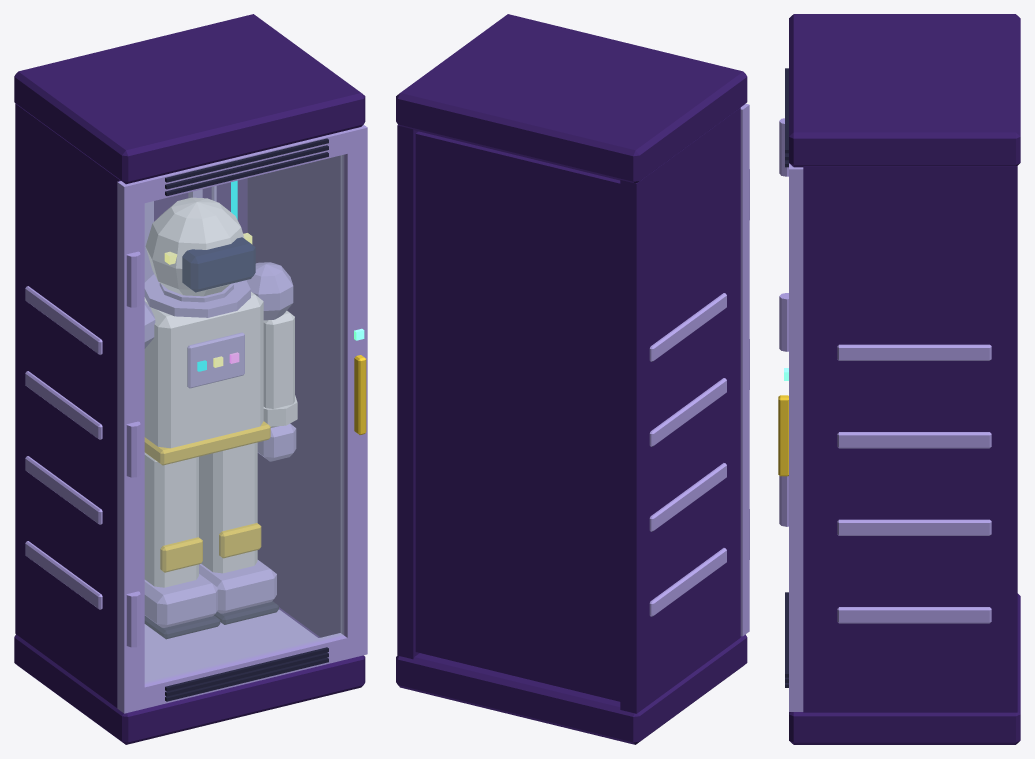
File: taquilla_traje_original.glb
3 views of the same model, side by side, from view 1: azimuth 30°, elevation 25°; view 2: azimuth 150°, elevation 25°; view 3: azimuth 270°, elevation 25° (orthographic). The views are drawn at different scales.
Visible parts, largest first — view 1: Casillero, Cristal, Traje (×4), Puerta, Suelo, Rejilla, Nervio, Visera, Bisagra, Tirador; view 2: Casillero, Nervio, Puerta; view 3: Casillero, Nervio, Puerta, Bisagra, Tirador, Rejilla.
Part boxes in pixels (x1,y1,x2,y2): Casillero: (14, 14, 365, 744); Cristal: (145, 155, 343, 683); Traje (×4): (144, 186, 297, 639); Puerta: (117, 124, 367, 713); Suelo: (144, 609, 317, 680); Rejilla: (165, 138, 328, 701); Nervio: (25, 286, 102, 609); Visera: (182, 237, 255, 292); Bisagra: (126, 251, 140, 647); Tirador: (354, 355, 366, 434); Casillero: (396, 14, 747, 744); Nervio: (649, 293, 726, 616); Puerta: (740, 103, 749, 636); Casillero: (789, 14, 1020, 744); Nervio: (837, 344, 991, 623); Puerta: (789, 163, 803, 711); Bisagra: (779, 118, 788, 526); Tirador: (778, 395, 788, 476); Rejilla: (785, 68, 788, 687).
Size of the model in its own units: 0.8512 by 1.96 by 0.7028.
